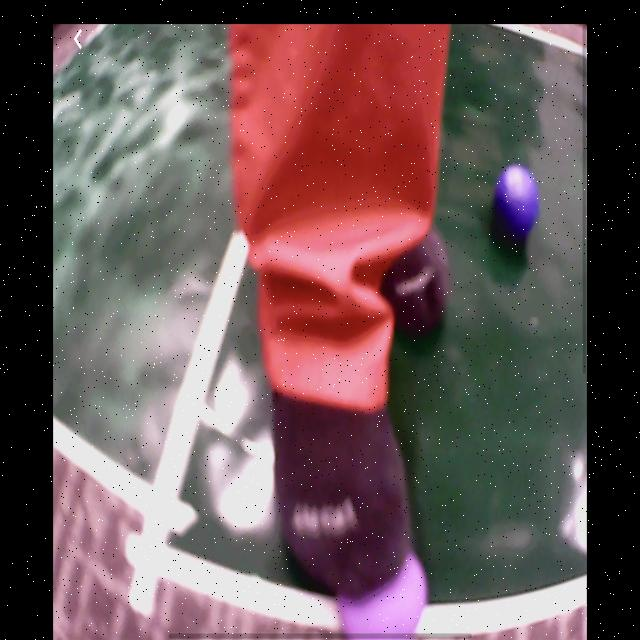ball: (340, 547, 429, 634), (493, 167, 541, 238)
